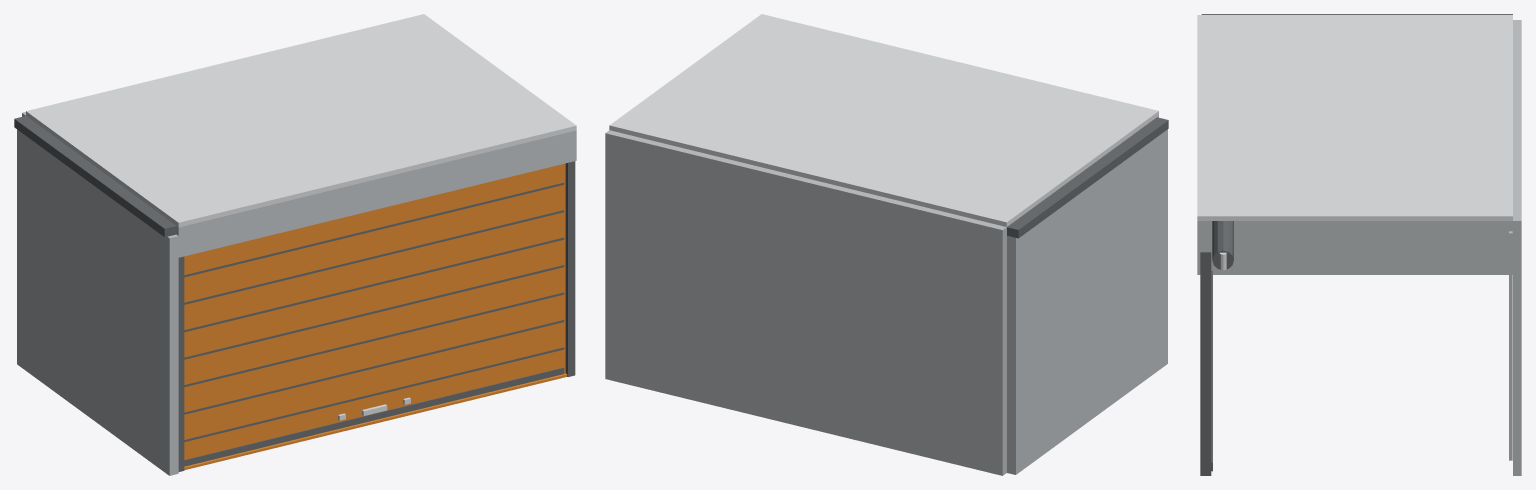
File: self-storage-facility-and-loading-bay-self-storage-fac-88f21abf__34697.glb
3 renders of one model, left to right at view 1: azimuth 30°, elevation 25°; view 2: azimuth 150°, elevation 25°; view 3: azimuth 270°, elevation 25°, orthographic. The views are drawn at different scales.
Visible parts, largest first — view 1: self-storage-facility-and-loading-bay-storage-unit-module-la (×4), shutter/orange, shutter/charcoal; view 2: self-storage-facility-and-loading-bay-storage-unit-module-la (×3); view 3: self-storage-facility-and-loading-bay-storage-unit-module-la (×3), shutter/charcoal.
Part boxes in pixels (bbox=[...]): self-storage-facility-and-loading-bay-storage-unit-module-la (×4): bbox=[14, 14, 576, 475]; shutter/orange: bbox=[184, 163, 565, 459]; shutter/charcoal: bbox=[184, 182, 564, 466]; self-storage-facility-and-loading-bay-storage-unit-module-la (×3): bbox=[605, 14, 1168, 475]; self-storage-facility-and-loading-bay-storage-unit-module-la (×3): bbox=[1197, 14, 1521, 475]; shutter/charcoal: bbox=[1211, 270, 1212, 471].
Size of the model in its own units: 4.54 by 2.65 by 3.
